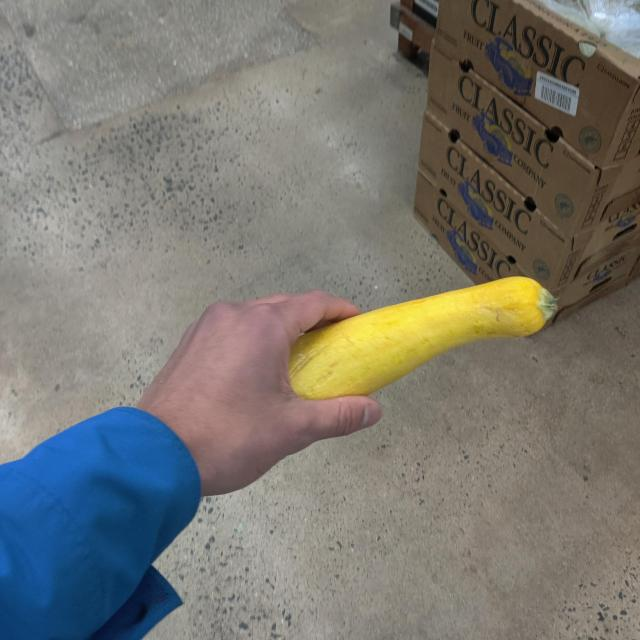Zucchini: (282, 275, 560, 410)
